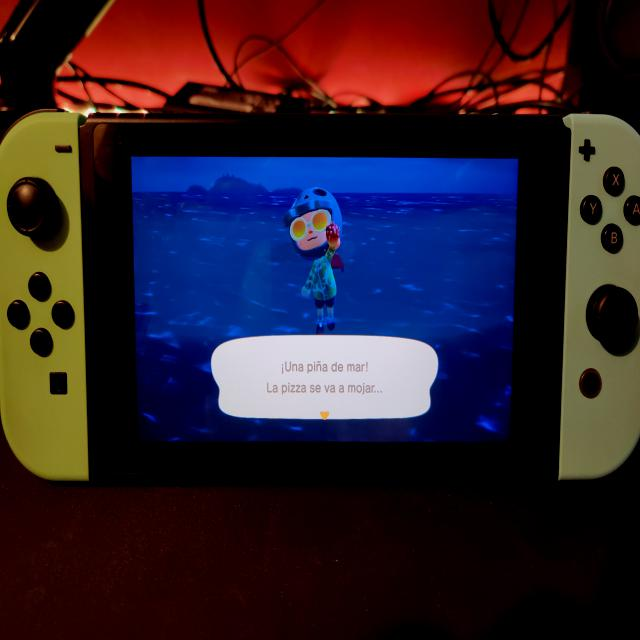text_bubble: (209, 330, 442, 425)
